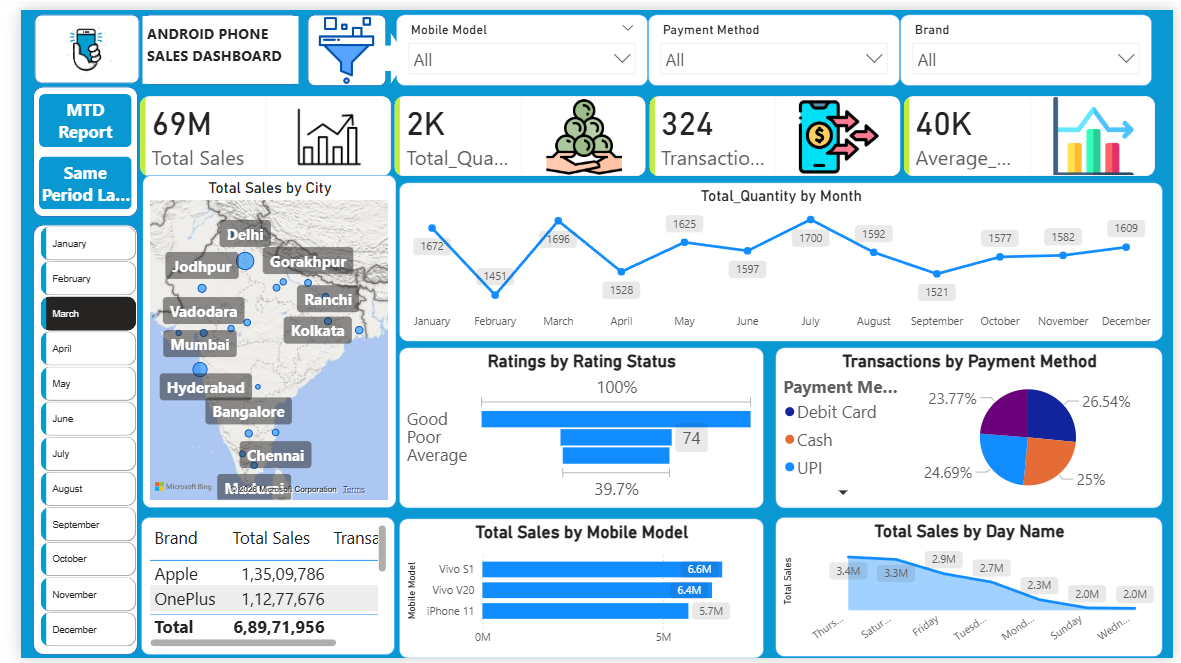

The dashboard page shown, as its layout file describes it:
{"tool":"powerbi","page":{"name":"Dashboard","canvas":[1280,720],"ordinal":0},"visuals":[{"type":"shape","box":[15,5,116.7,76.7],"z":0},{"type":"image","box":[0,13.3,145,65],"z":1000},{"type":"shape","box":[13.3,85,116.7,145],"z":2000},{"type":"shape","box":[13.3,238.3,116.7,478.3],"z":3000},{"type":"advancedSlicerVisual","fields":{"Values":["Custom Calender.Date.Variation.Date Hierarchy.Month"]},"box":[16.7,235,116.7,485],"z":4000},{"type":"cardVisual","fields":{"Data":["Android Smartphone Sales Report.Total Sales","Android Smartphone Sales Report.Total_Quantity","Android Smartphone Sales Report.Transactions","Android Smartphone Sales Report.Average_Price"]},"box":[115,78.3,1165,123.3],"z":5000},{"type":"slicer","fields":{"Values":["Android Smartphone Sales Report.Mobile Model"]},"box":[416.7,4.8,279.9,79.5],"z":6000},{"type":"slicer","fields":{"Values":["Android Smartphone Sales Report.Payment Method"]},"box":[696.7,4.8,279.9,79.5],"z":7000},{"type":"slicer","fields":{"Values":["Android Smartphone Sales Report.Brand"]},"box":[976.6,4.8,279.9,79.5],"z":8000},{"type":"shape","box":[318.1,4.8,87.5,79.5],"z":9000},{"type":"image","box":[308.6,6.4,106.6,76.3],"z":10000},{"type":"shape","box":[391.3,25.4,38.2,57.3],"z":11000},{"type":"shape","box":[135,5,173.3,78.3],"z":12000},{"type":"textbox","box":[135,6.7,173.3,75],"z":13000},{"type":"map","fields":{"Category":["Android Smartphone Sales Report.City"],"Size":["Android Smartphone Sales Report.Total Sales"]},"box":[135,183.3,281.7,370],"z":13001},{"type":"lineChart","fields":{"Category":["Custom Calender.Date.Variation.Date Hierarchy.Month"],"Y":["Android Smartphone Sales Report.Total_Quantity"]},"box":[420,191.7,848.3,176.7],"z":13002},{"type":"funnel","title":"Ratings by Rating Status","fields":{"Category":["Android Smartphone Sales Report.Rating Status"],"Y":["CountNonNull(Android Smartphone Sales Report.Customer Age)"]},"box":[420,375,405,178.3],"z":13003},{"type":"pieChart","fields":{"Y":["Android Smartphone Sales Report.Transactions"],"Category":["Android Smartphone Sales Report.Payment Method"]},"box":[838.3,375,430,178.3],"z":13004},{"type":"clusteredBarChart","fields":{"Y":["Android Smartphone Sales Report.Total Sales"],"Category":["Android Smartphone Sales Report.Mobile Model"]},"box":[420,565,405,155],"z":13005},{"type":"areaChart","fields":{"Y":["Android Smartphone Sales Report.Total Sales"],"Category":["Custom Calender.Day Name"]},"box":[838.3,563.3,430,155],"z":13006},{"type":"tableEx","fields":{"Values":["Android Smartphone Sales Report.Brand","Android Smartphone Sales Report.Total Sales","Android Smartphone Sales Report.Transactions"]},"box":[133.3,563.3,281.7,153.3],"z":13007},{"type":"pageNavigator","box":[20,93.3,103.3,128.3],"z":13009}]}

Visuals, with their boxes in screenshot pixels (x1, y1, x2, y2), scaled from the page's 1280x720 canvas onto the 1181x663 screenshot:
shape: left=14, top=5, right=122, bottom=75
image: left=0, top=12, right=134, bottom=72
shape: left=12, top=78, right=120, bottom=212
shape: left=12, top=219, right=120, bottom=660
advancedSlicerVisual - Custom Calender.Date.Variation.Date Hierarchy.Month: left=15, top=216, right=123, bottom=662
cardVisual - Android Smartphone Sales Report.Total Sales x Android Smartphone Sales Report.Total_Quantity: left=106, top=72, right=1180, bottom=186
slicer - Android Smartphone Sales Report.Mobile Model: left=384, top=4, right=643, bottom=78
slicer - Android Smartphone Sales Report.Payment Method: left=643, top=4, right=901, bottom=78
slicer - Android Smartphone Sales Report.Brand: left=901, top=4, right=1159, bottom=78
shape: left=293, top=4, right=374, bottom=78
image: left=285, top=6, right=383, bottom=76
shape: left=361, top=23, right=396, bottom=76
shape: left=125, top=5, right=284, bottom=77
textbox: left=125, top=6, right=284, bottom=75
map - Android Smartphone Sales Report.City x Android Smartphone Sales Report.Total Sales: left=125, top=169, right=384, bottom=509
lineChart - Custom Calender.Date.Variation.Date Hierarchy.Month x Android Smartphone Sales Report.Total_Quantity: left=388, top=177, right=1170, bottom=339
"Ratings by Rating Status" funnel: left=388, top=345, right=761, bottom=509
pieChart - Android Smartphone Sales Report.Transactions x Android Smartphone Sales Report.Payment Method: left=773, top=345, right=1170, bottom=509
clusteredBarChart - Android Smartphone Sales Report.Total Sales x Android Smartphone Sales Report.Mobile Model: left=388, top=520, right=761, bottom=662
areaChart - Android Smartphone Sales Report.Total Sales x Custom Calender.Day Name: left=773, top=519, right=1170, bottom=661
tableEx - Android Smartphone Sales Report.Brand x Android Smartphone Sales Report.Total Sales: left=123, top=519, right=383, bottom=660
pageNavigator: left=18, top=86, right=114, bottom=204
